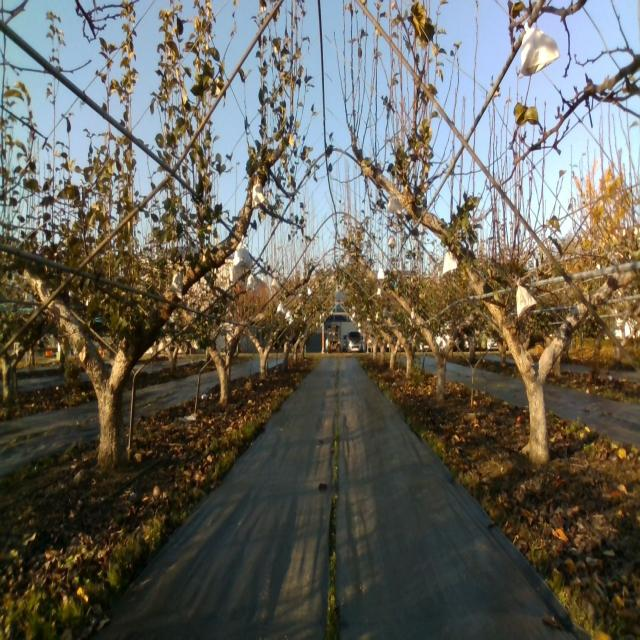pearbags: (520, 19, 560, 74), (513, 276, 537, 319), (234, 234, 253, 271), (167, 267, 184, 300), (441, 248, 459, 278), (251, 176, 265, 211), (386, 192, 402, 215)
